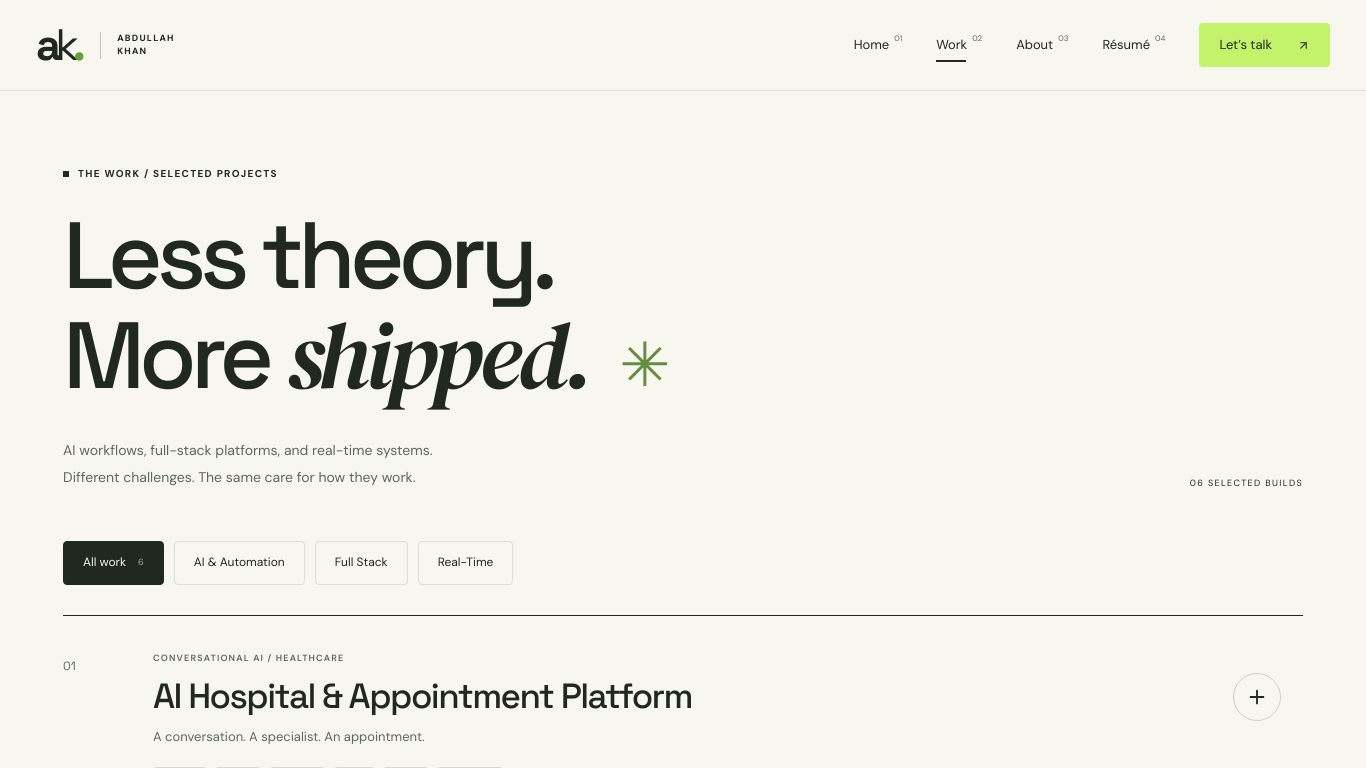
it: project filters preserve generic names and expose contributions
Click the button "AI & Automation": point(239, 563) left=174, top=541, right=305, bottom=585
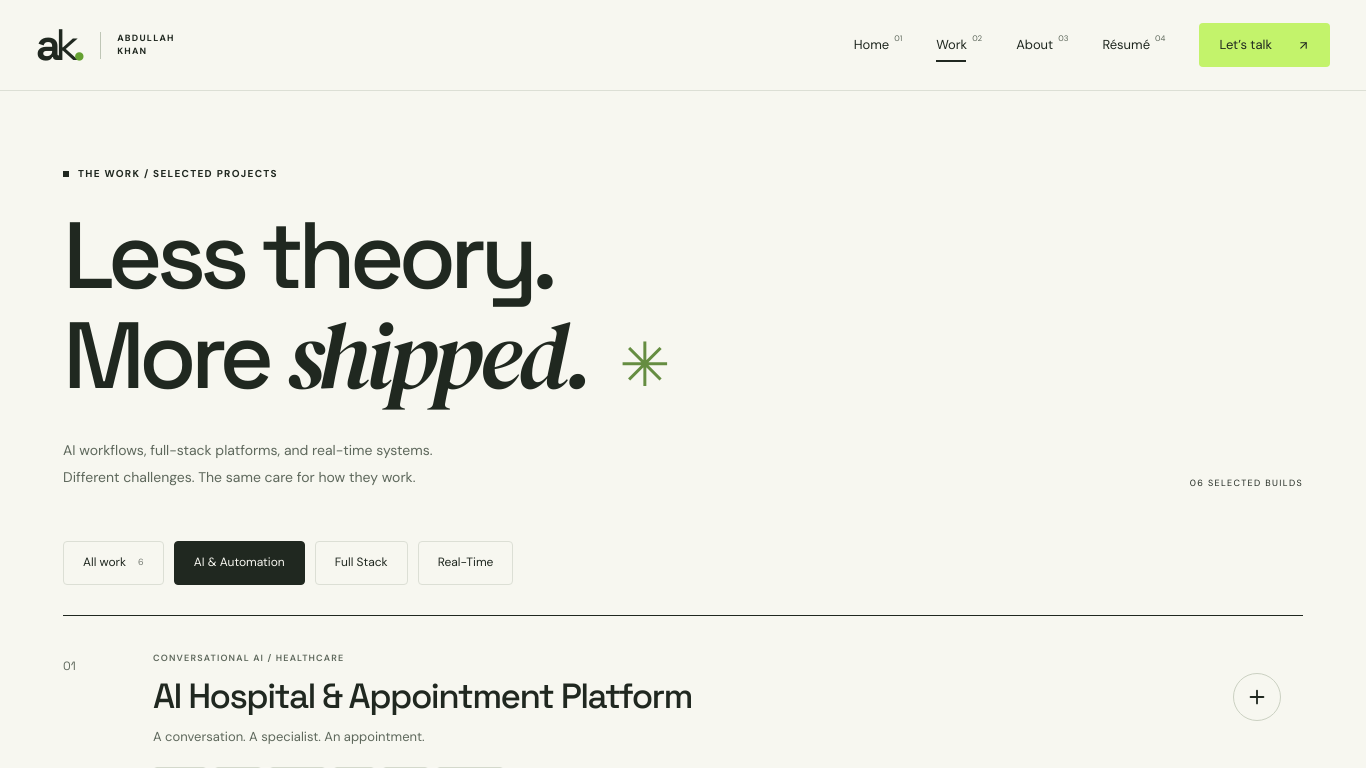
Click the button named "View details for AI Hospital": point(1257, 697) left=1233, top=673, right=1281, bottom=721
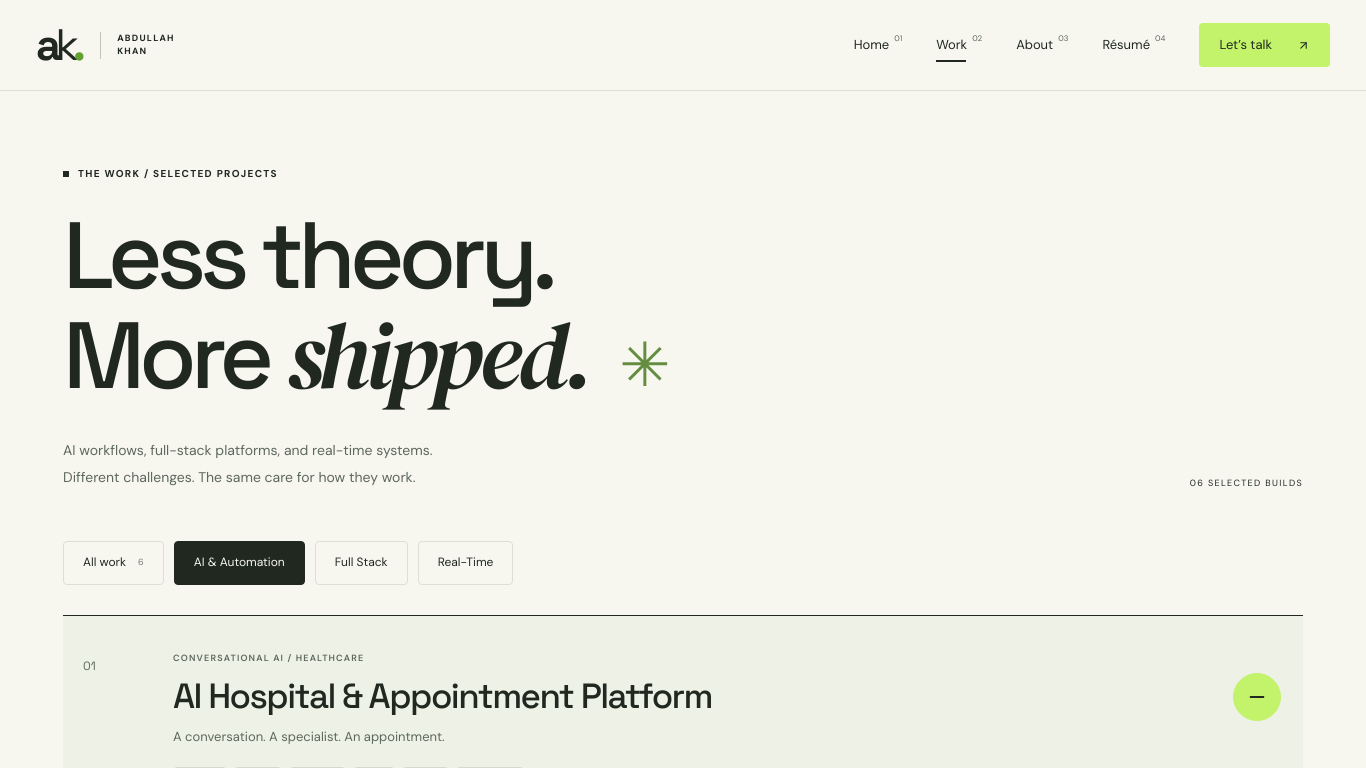
Check: the button named "Close details for AI Hospital" is expanded, box left=1233, top=673, right=1281, bottom=721
